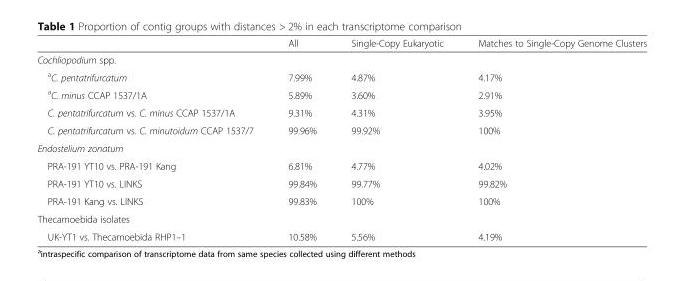table: (36, 37, 646, 242)
table column: (36, 37, 270, 242), (460, 37, 646, 242), (333, 37, 460, 242), (270, 37, 333, 242)
table column header: (36, 37, 646, 51)
table projected row header: (36, 209, 646, 227), (36, 139, 646, 156), (36, 51, 646, 67)
table row: (36, 67, 646, 85), (36, 85, 646, 103), (36, 103, 646, 121), (36, 121, 646, 139), (36, 156, 646, 174), (36, 174, 646, 192), (36, 209, 646, 227), (36, 139, 646, 156), (36, 192, 646, 209), (36, 51, 646, 67), (36, 227, 646, 242), (36, 37, 646, 51)
